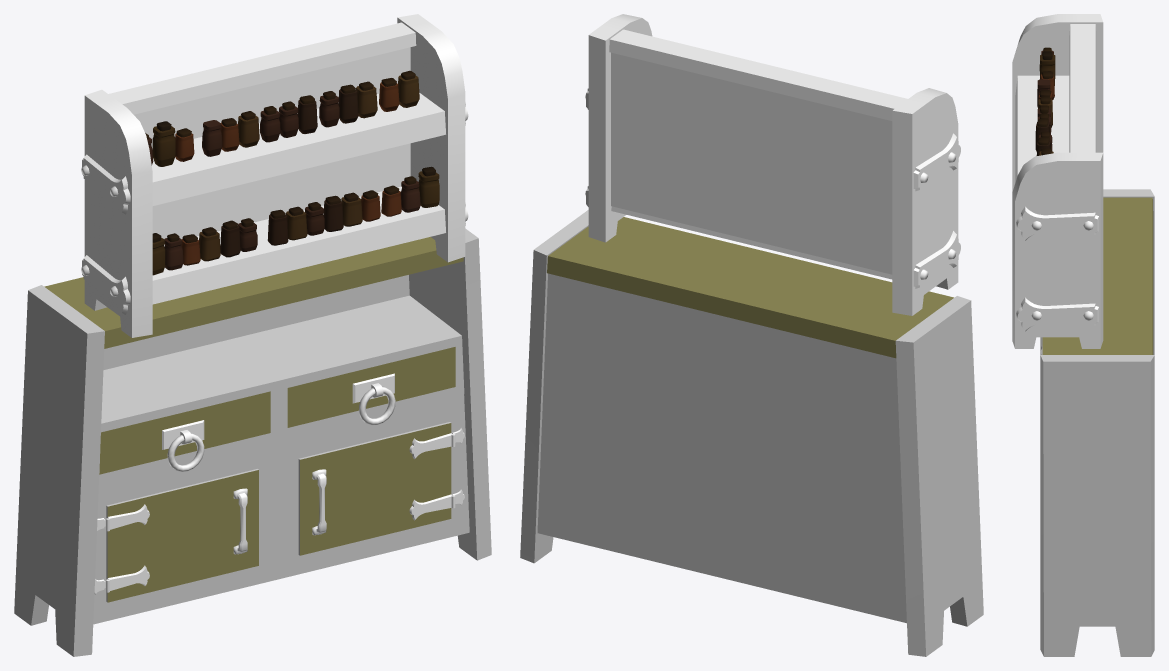
File: display_shelf.glb
The picture shows the model from 3 angles, left to right: view 1: azimuth 30°, elevation 25°; view 2: azimuth 150°, elevation 25°; view 3: azimuth 270°, elevation 25°; orthographic projection. The views are drawn at different scales.
Parts seen in each view (by area): view 1: Cube098, Cube166_2, Cube166, Cube098_1, Cube166_1; view 2: Cube098, Cube166_2, Cube166_1; view 3: Cube098, Cube166_2, Cube166_1, Cube166.
Part boxes in pixels (<box>): Cube098: <box>14,228,491,656</box>; Cube166_2: <box>84,14,465,337</box>; Cube166: <box>145,70,439,275</box>; Cube098_1: <box>94,373,464,594</box>; Cube166_1: <box>81,102,468,314</box>; Cube098: <box>520,210,983,656</box>; Cube166_2: <box>588,14,958,315</box>; Cube166_1: <box>585,88,960,288</box>; Cube098: <box>1040,189,1154,656</box>; Cube166_2: <box>1012,14,1103,348</box>; Cube166_1: <box>1016,206,1098,331</box>; Cube166: <box>1035,47,1055,155</box>.
Bounding box in the file's own units: 1.36 × 1.64 × 0.4452.
